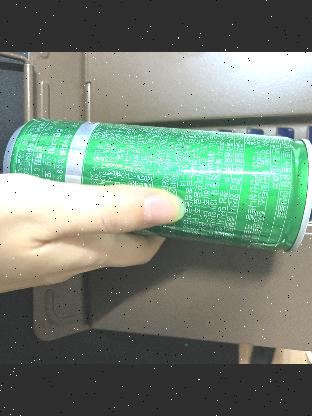Can: (0, 118, 312, 253)
